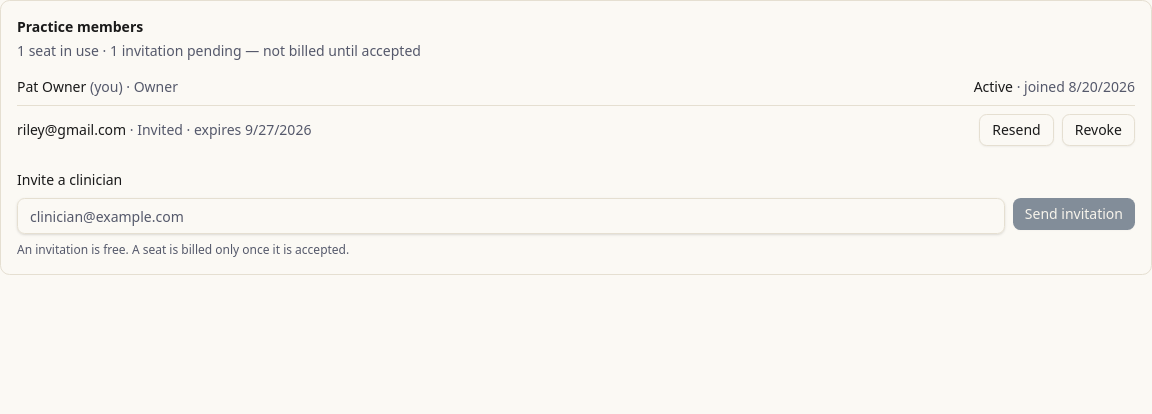
Test case: PracticeRoster › drops the copyable link once its invitation is revoked
Click the button with aria-label "Resend invitation" at (1017, 130), box x1=979 y1=114 x2=1054 y2=146
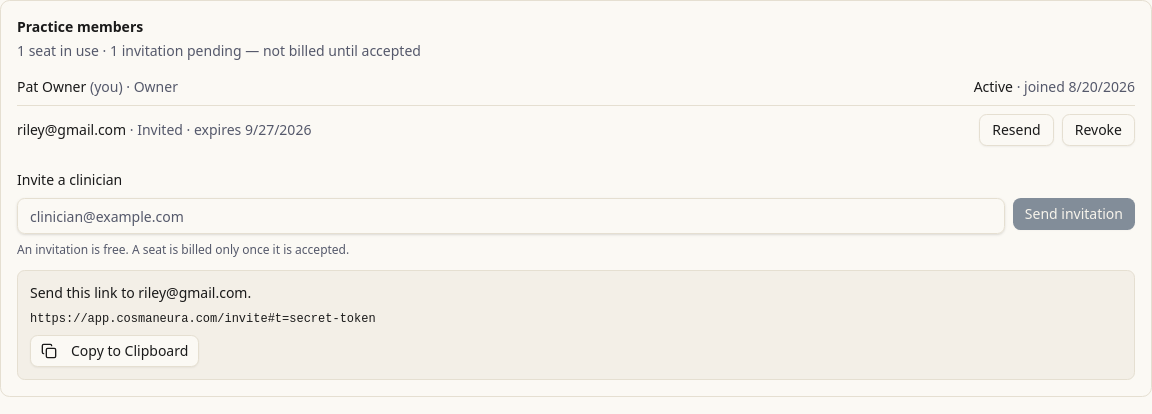
Now the text "https://app.cosmaneura.com/invite#t=secret-token" is shown, box x1=30 y1=312 x2=376 y2=326
Click the button with aria-label "Revoke invitation" at (1098, 130), box x1=1062 y1=114 x2=1135 y2=146
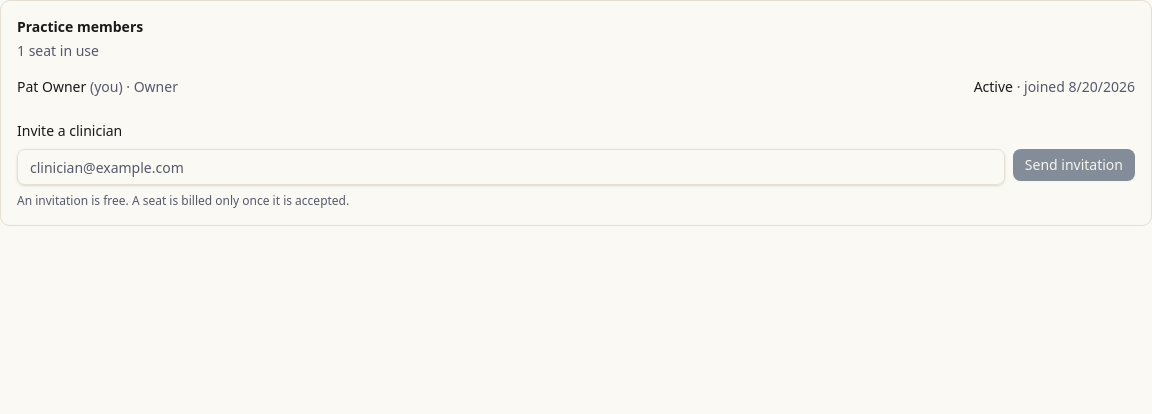
Now the text "https://app.cosmaneura.com/invite#t=secret-token" is gone
